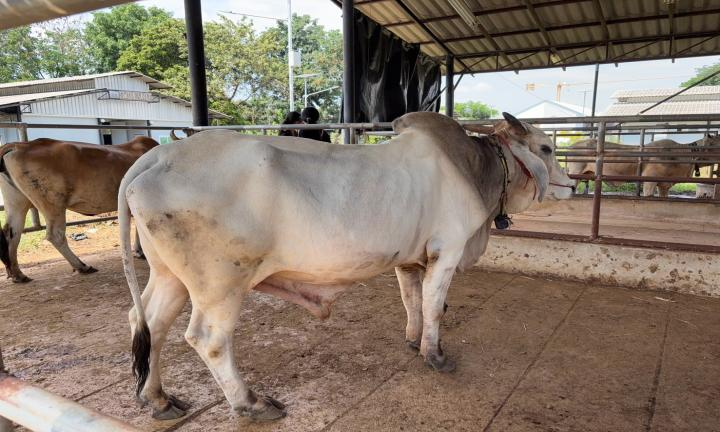Brahman: (117, 112, 572, 419)
